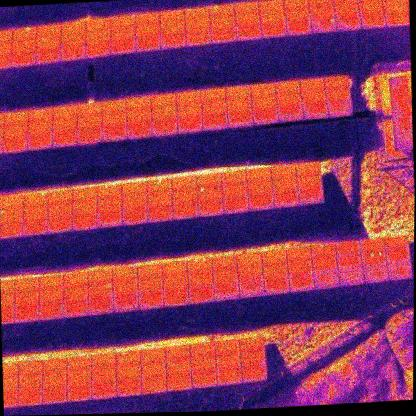Hotspot: (237, 264, 264, 282), (239, 280, 265, 298), (165, 344, 191, 362), (163, 290, 190, 307), (87, 283, 114, 300), (122, 194, 148, 211), (3, 110, 29, 127), (166, 359, 192, 376), (361, 250, 387, 266), (197, 187, 223, 203), (152, 107, 178, 123), (141, 348, 167, 364), (173, 175, 198, 191), (221, 170, 246, 186), (311, 18, 336, 34), (240, 336, 265, 352), (186, 259, 212, 274), (147, 178, 173, 193), (67, 355, 93, 370), (0, 208, 24, 224), (12, 26, 37, 41), (110, 14, 135, 29), (116, 350, 141, 365), (0, 222, 24, 237), (312, 243, 337, 257), (36, 36, 61, 50), (184, 7, 209, 21), (209, 4, 234, 18), (98, 185, 123, 198), (24, 194, 48, 207), (309, 0, 333, 8)
Normal: (335, 251, 363, 270), (264, 275, 291, 294), (362, 264, 390, 282), (287, 258, 313, 277), (192, 370, 218, 389), (240, 349, 266, 368), (313, 271, 340, 289), (312, 255, 339, 273), (384, 247, 411, 265), (17, 388, 44, 406), (216, 368, 243, 386), (91, 366, 118, 384), (273, 192, 301, 209), (63, 285, 89, 303), (188, 271, 214, 289), (213, 268, 239, 286), (123, 208, 149, 226), (223, 196, 249, 214), (228, 111, 254, 129), (67, 369, 93, 387), (63, 301, 90, 318), (288, 274, 315, 291), (22, 219, 49, 236), (248, 194, 275, 211), (215, 353, 242, 370), (14, 291, 39, 309), (328, 100, 353, 118), (338, 268, 364, 285), (198, 200, 224, 217), (72, 200, 98, 217), (222, 183, 248, 200), (273, 177, 299, 194), (42, 387, 68, 404), (67, 384, 93, 401), (117, 378, 143, 395), (253, 109, 279, 126), (176, 89, 202, 106), (225, 84, 251, 101), (250, 81, 276, 98), (241, 366, 267, 383), (141, 362, 167, 379), (117, 363, 143, 380), (191, 355, 217, 372), (138, 293, 165, 309), (161, 275, 188, 291), (47, 217, 74, 233), (147, 206, 174, 222), (97, 197, 124, 213), (101, 126, 128, 142), (10, 52, 37, 68), (39, 303, 64, 320), (299, 189, 324, 206), (297, 175, 322, 192), (167, 374, 192, 391), (201, 86, 226, 103), (214, 284, 240, 300), (38, 289, 64, 305), (113, 281, 139, 297), (137, 278, 163, 294), (387, 263, 413, 279), (162, 261, 188, 277), (72, 215, 98, 231), (97, 212, 123, 228), (172, 203, 198, 219), (246, 167, 272, 183), (77, 129, 103, 145), (142, 377, 168, 393), (28, 108, 54, 124), (275, 80, 301, 96), (86, 42, 112, 58), (336, 16, 362, 32), (92, 382, 116, 399), (89, 297, 114, 313), (189, 287, 214, 303), (113, 267, 138, 283), (48, 203, 73, 219), (148, 192, 173, 208), (248, 180, 273, 196), (153, 120, 178, 136), (178, 117, 203, 133), (304, 104, 329, 120), (77, 115, 102, 131), (202, 101, 227, 117), (152, 93, 177, 109), (61, 45, 86, 61), (262, 22, 287, 38), (286, 20, 311, 36), (361, 13, 386, 29), (18, 374, 43, 390), (263, 263, 289, 278), (137, 265, 163, 280), (261, 250, 287, 265), (335, 239, 361, 254), (172, 189, 198, 204), (127, 110, 153, 125), (299, 78, 325, 93), (43, 373, 69, 388), (91, 353, 117, 368), (190, 344, 216, 359), (15, 306, 39, 322), (19, 360, 43, 376), (63, 272, 88, 287), (87, 270, 112, 285), (24, 205, 49, 220), (271, 165, 296, 180), (203, 115, 228, 130), (278, 107, 303, 122), (102, 113, 127, 128), (177, 104, 202, 119), (252, 96, 277, 111), (302, 91, 327, 106), (77, 103, 102, 118), (101, 99, 126, 114), (37, 49, 62, 64), (136, 36, 161, 51), (161, 34, 186, 49), (186, 31, 211, 46), (211, 28, 236, 43), (237, 26, 262, 41), (86, 29, 111, 44), (111, 26, 136, 41), (215, 339, 240, 354), (48, 190, 74, 204), (127, 124, 153, 138), (3, 125, 29, 139), (28, 122, 54, 136), (126, 98, 152, 112), (36, 24, 62, 38), (284, 8, 310, 22), (232, 1, 258, 15), (15, 278, 39, 293), (39, 275, 63, 290), (0, 195, 24, 210), (296, 162, 320, 177), (53, 131, 77, 146), (326, 88, 350, 103), (325, 75, 349, 90), (112, 39, 136, 54), (113, 296, 138, 310), (384, 236, 409, 250), (73, 187, 98, 201), (123, 182, 148, 196), (197, 174, 222, 188), (227, 100, 252, 114), (277, 94, 302, 108), (12, 40, 37, 54), (135, 24, 160, 38), (186, 19, 211, 33), (235, 13, 260, 27), (260, 10, 285, 24), (334, 5, 359, 19), (359, 2, 384, 16), (383, 0, 408, 14), (135, 12, 160, 26), (160, 9, 185, 23), (43, 359, 68, 373), (236, 253, 262, 266), (359, 238, 385, 251), (28, 135, 52, 149), (53, 119, 77, 133), (53, 106, 77, 120), (61, 33, 85, 47), (386, 13, 410, 27), (161, 22, 185, 36), (61, 22, 85, 36), (310, 7, 334, 21), (212, 256, 237, 269), (3, 138, 28, 151), (210, 17, 235, 30), (85, 19, 110, 32), (259, 0, 284, 12), (286, 248, 311, 259), (283, 0, 308, 11), (332, 0, 357, 7), (357, 0, 382, 3), (381, 0, 406, 2)
